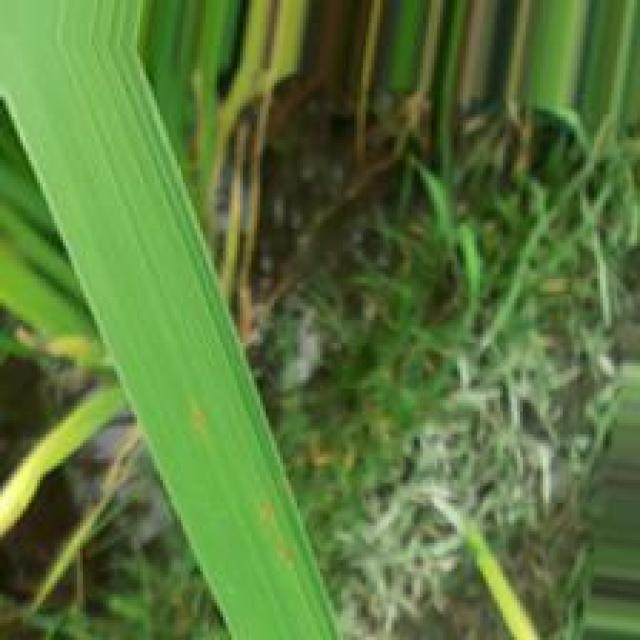HealthyLeaf: (4, 43, 276, 638)
